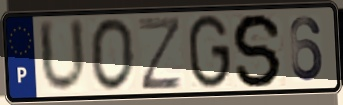6: (289, 14, 326, 84)
G: (187, 13, 232, 92)
O: (88, 17, 137, 94)
S: (231, 11, 286, 90)
U: (36, 16, 90, 97)
Z: (136, 14, 184, 93)
